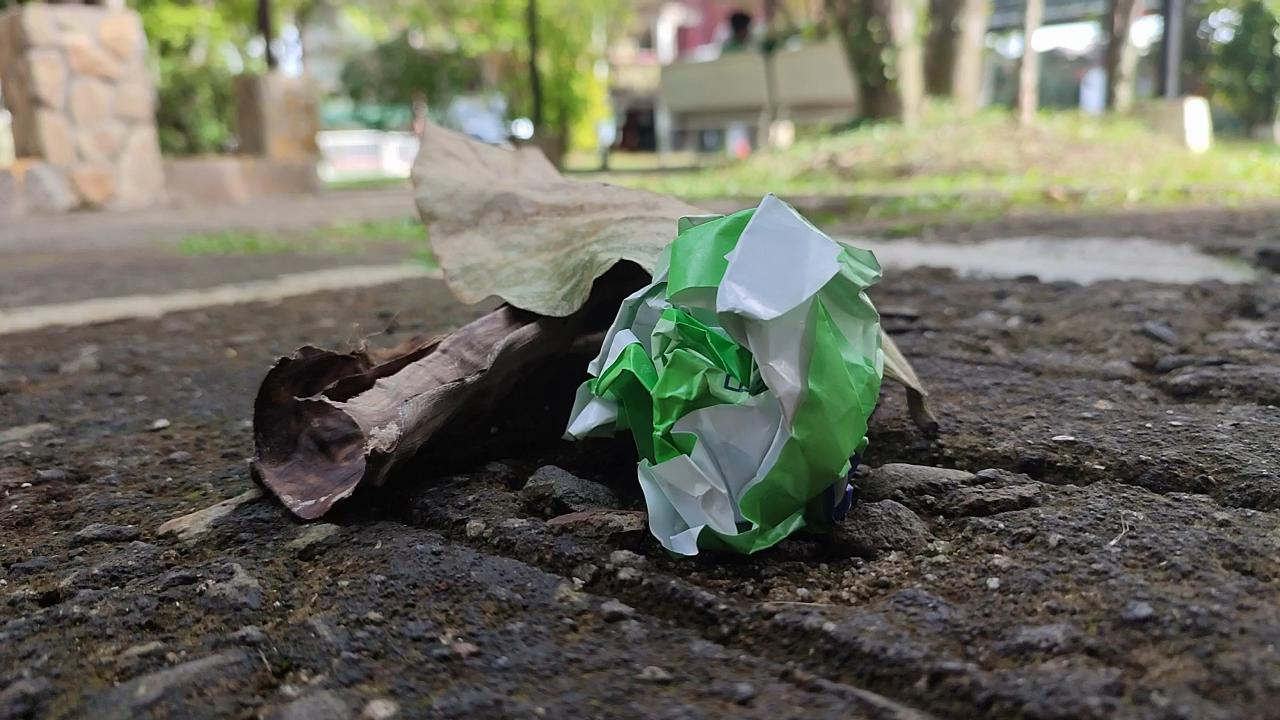Paper: (571, 182, 892, 562)
